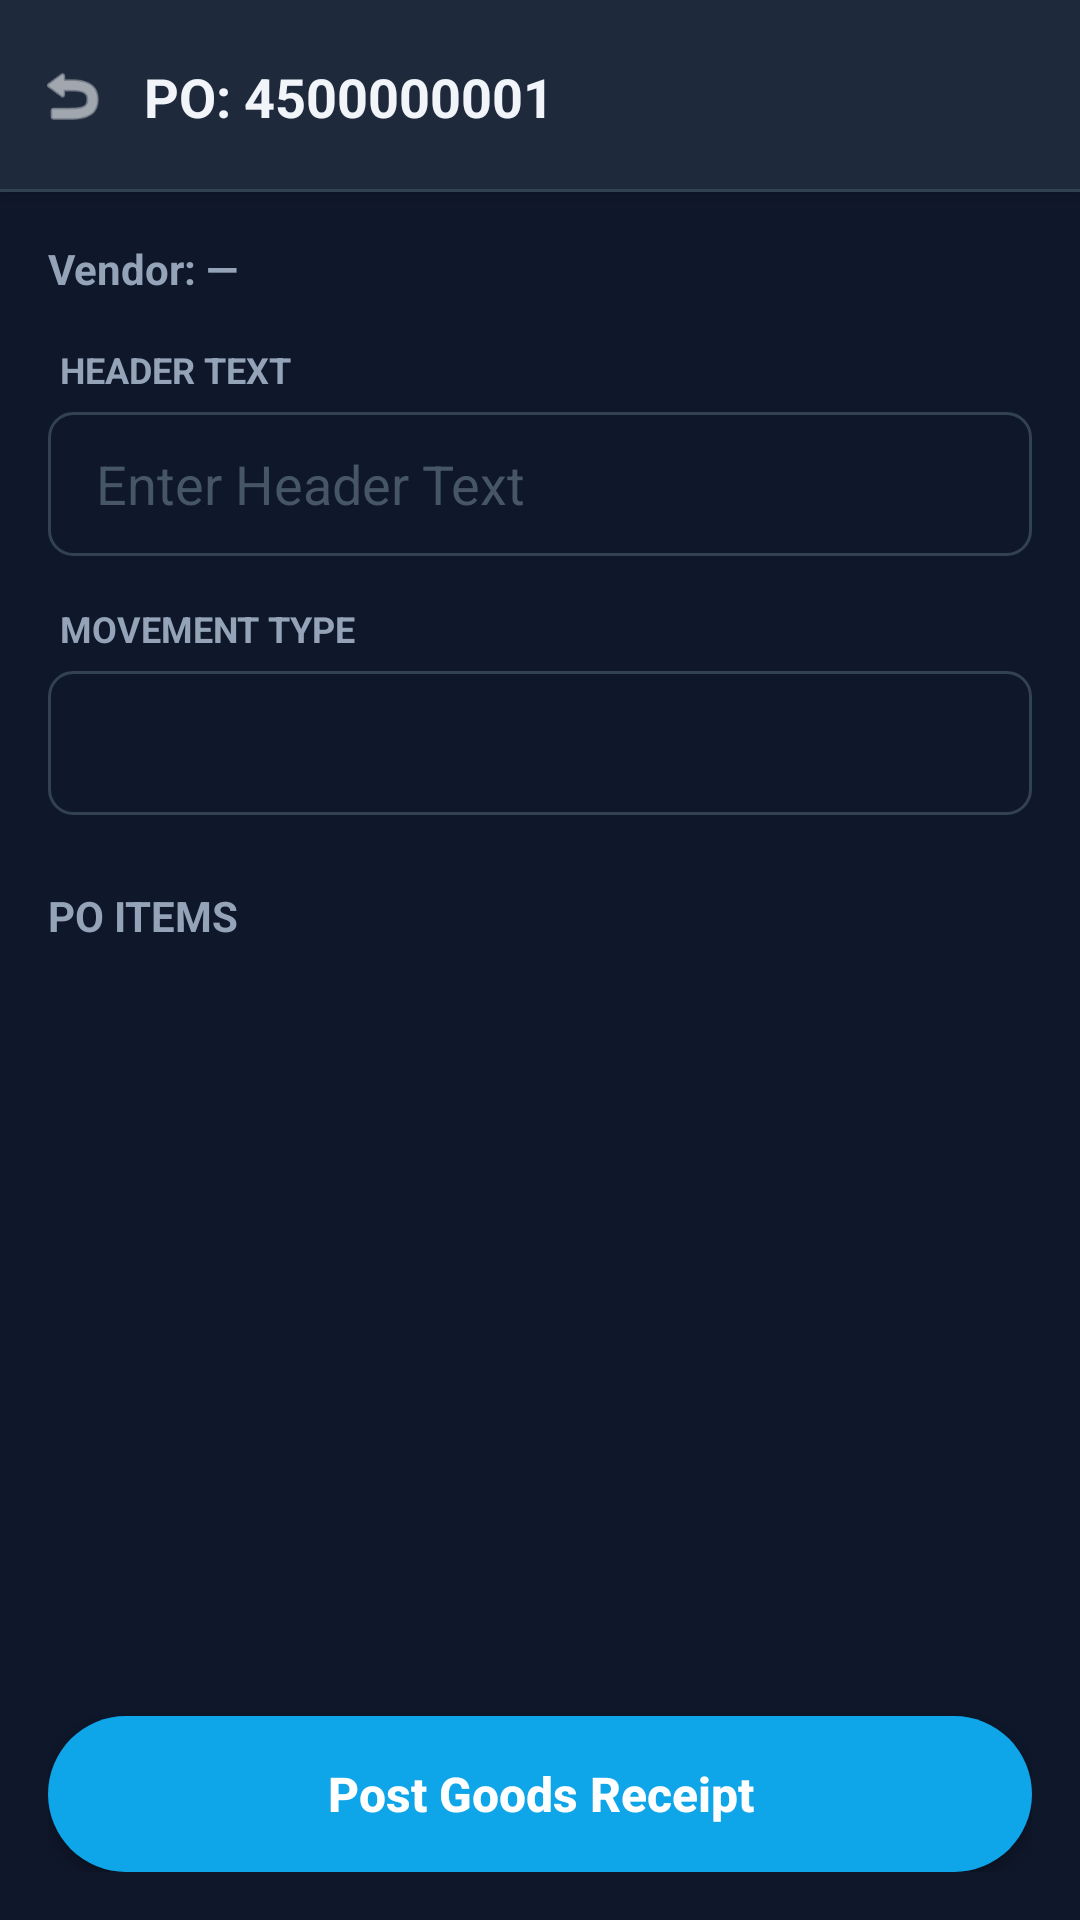

Icons on this 1080px x 1920px Android screen, each with the point to tap as [x,y]:
revert: [73,96]
